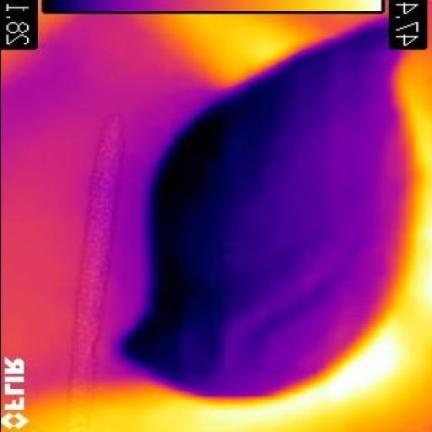mango: (126, 26, 410, 397)
